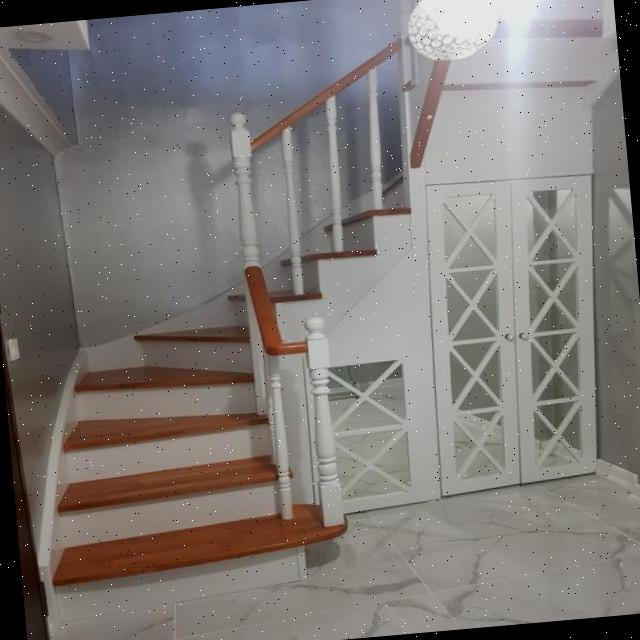stairs: (27, 334, 350, 588)
